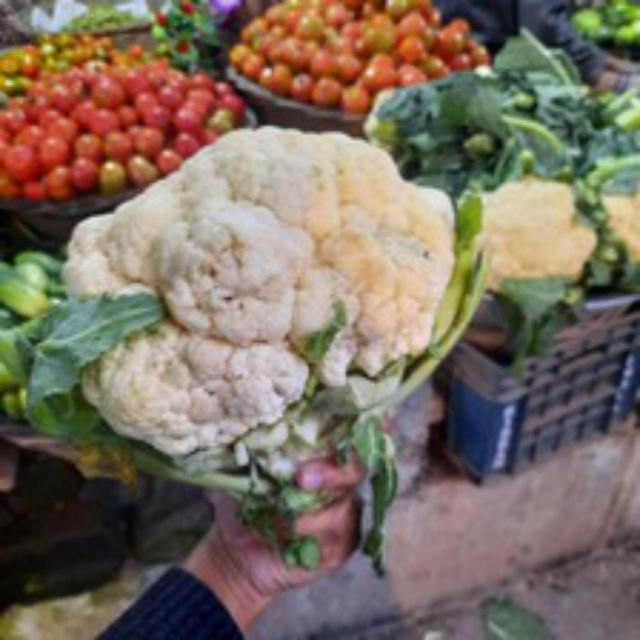cauliflower: (48, 103, 505, 475)
